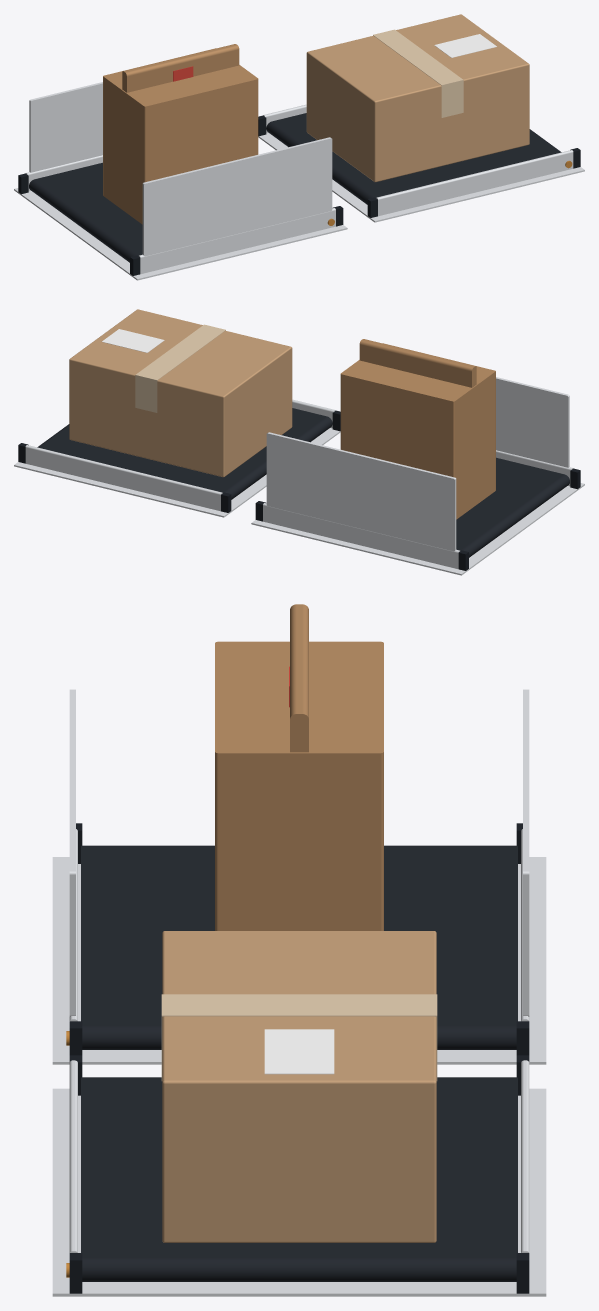
The model's file is trays_v2.glb.
The picture shows the model from 3 angles, top to bottom: view 1: azimuth 30°, elevation 25°; view 2: azimuth 150°, elevation 25°; view 3: azimuth 270°, elevation 25°; orthographic projection. The views are drawn at different scales.
Parts seen in each view (by area): view 1: box_tray_box, food_tray_fences, food_tray_food, food_tray_frame, food_tray_belt, box_tray_box_tape, food_tray_corners, box_tray_box_label; view 2: box_tray_box, food_tray_fences, food_tray_food, food_tray_frame, food_tray_belt, box_tray_box_tape, food_tray_corners, box_tray_box_label; view 3: food_tray_belt, box_tray_box, food_tray_food, food_tray_frame, box_tray_box_tape, food_tray_fences, box_tray_box_label, food_tray_corners.
Boxes of the visible parts, x1,y1,x2,y2 form: box_tray_box: (306, 14, 529, 182); food_tray_fences: (29, 82, 332, 256); food_tray_food: (103, 44, 258, 224); food_tray_frame: (14, 104, 584, 280); food_tray_belt: (29, 113, 561, 262); box_tray_box_tape: (373, 29, 463, 117); food_tray_corners: (18, 115, 580, 275); box_tray_box_label: (434, 34, 496, 57); box_tray_box: (69, 309, 292, 477); food_tray_fences: (266, 377, 569, 551); food_tray_food: (340, 339, 495, 519); food_tray_frame: (14, 399, 584, 575); food_tray_belt: (37, 408, 569, 557); box_tray_box_tape: (135, 324, 225, 412); food_tray_corners: (18, 410, 580, 570); box_tray_box_label: (102, 329, 164, 352); food_tray_belt: (81, 845, 517, 1281); box_tray_box: (162, 931, 436, 1242); food_tray_food: (215, 604, 383, 930); food_tray_frame: (52, 829, 546, 1296); box_tray_box_tape: (161, 994, 437, 1080); food_tray_fences: (69, 689, 529, 1016); box_tray_box_label: (264, 1029, 334, 1074); food_tray_corners: (69, 823, 529, 1293).
Bounding box in the file's own units: 0.98 × 0.317 × 0.468.
